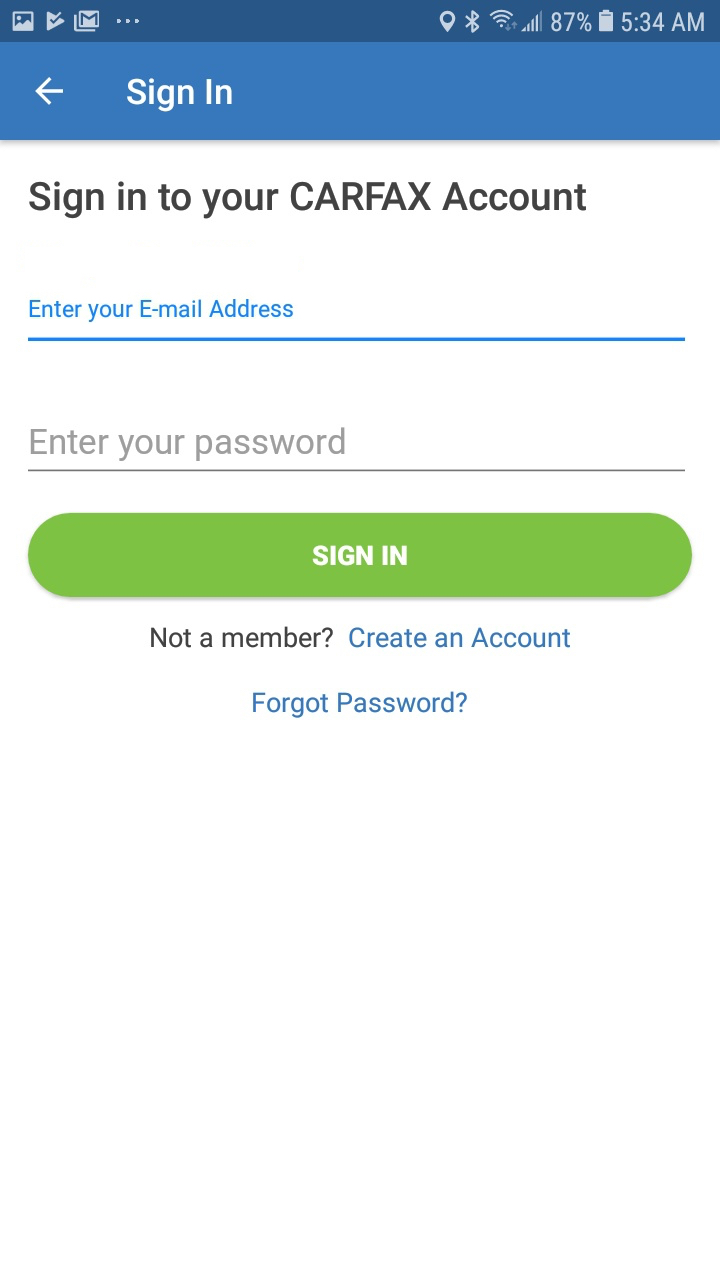EditText: (28, 427, 685, 473), (29, 299, 686, 343)
Icon: (36, 77, 65, 107)
Text: (30, 181, 587, 220), (30, 427, 345, 462), (30, 299, 294, 323), (253, 691, 468, 719), (349, 627, 571, 649), (151, 626, 334, 649), (126, 77, 233, 113)
TextButton: (29, 512, 693, 598)
UpperTaskBar: (1, 1, 720, 43)
